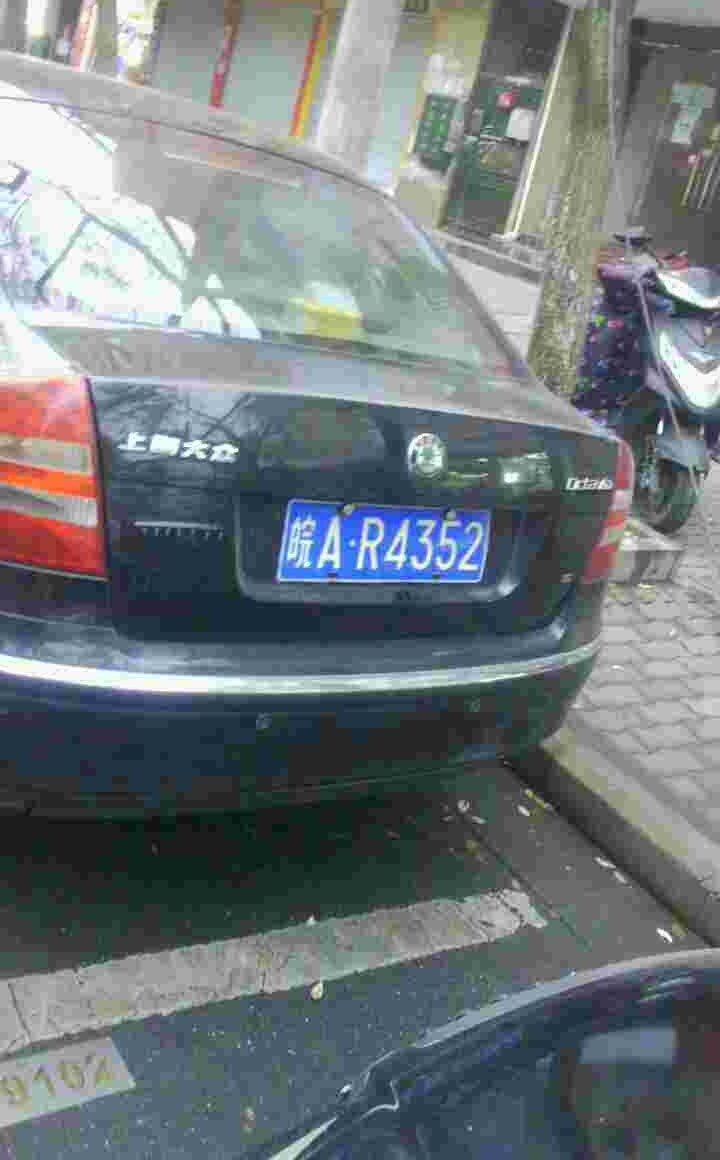plate: (285, 500, 502, 587)
